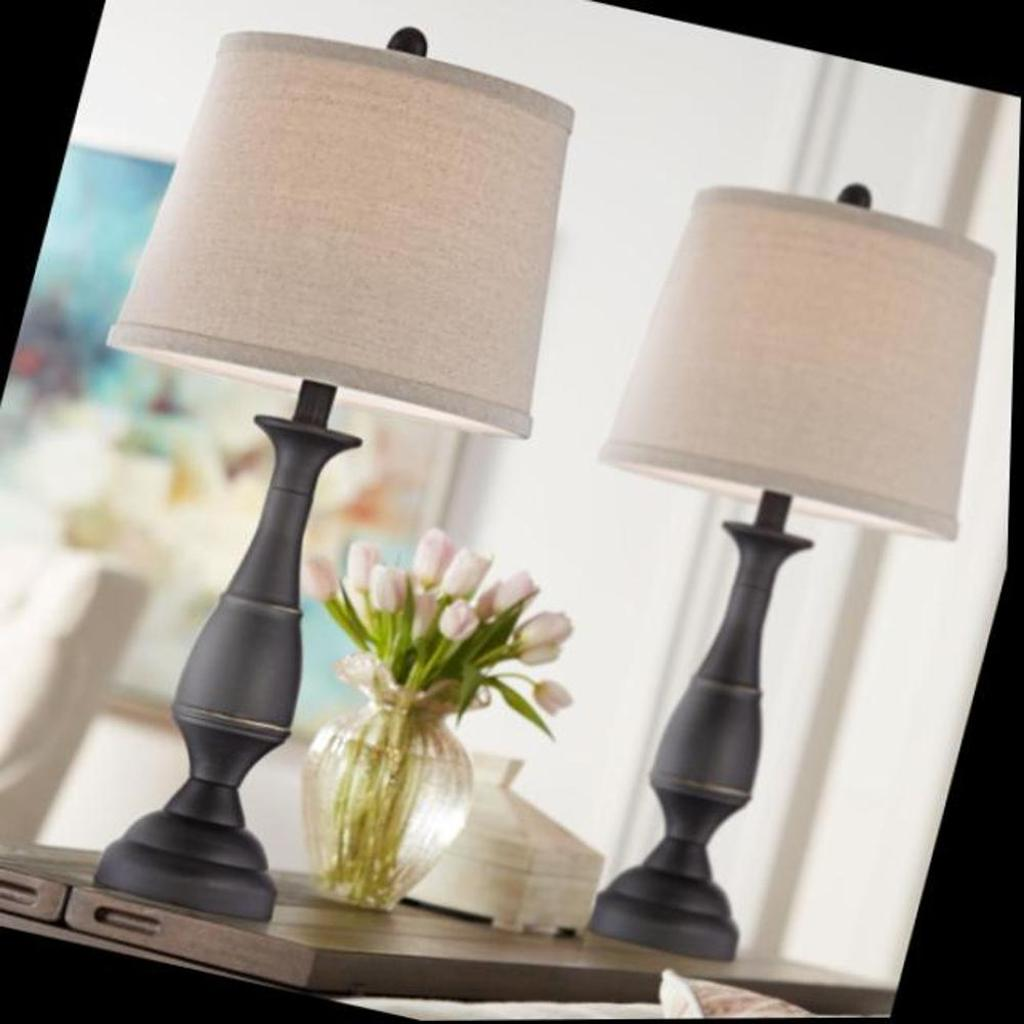shelf: (0, 0, 664, 963), (481, 64, 1022, 1007)
